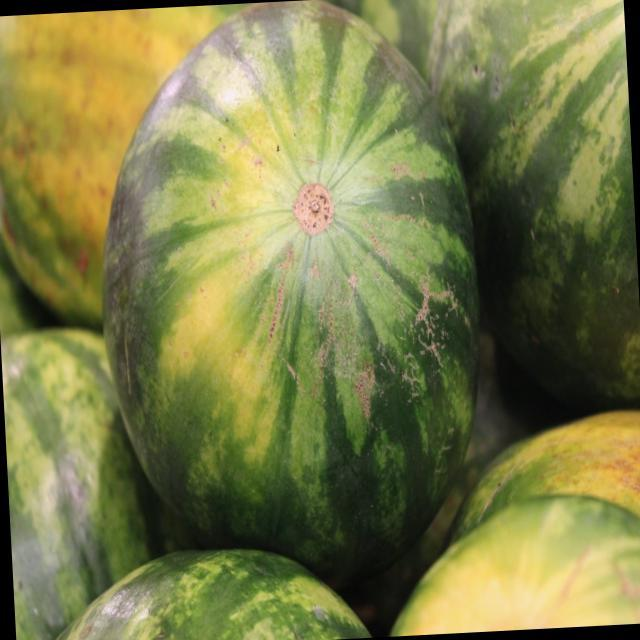WATERMELON: (90, 0, 522, 533), (452, 0, 640, 387), (0, 5, 219, 329), (1, 313, 158, 640), (44, 517, 404, 640), (379, 474, 640, 637)
